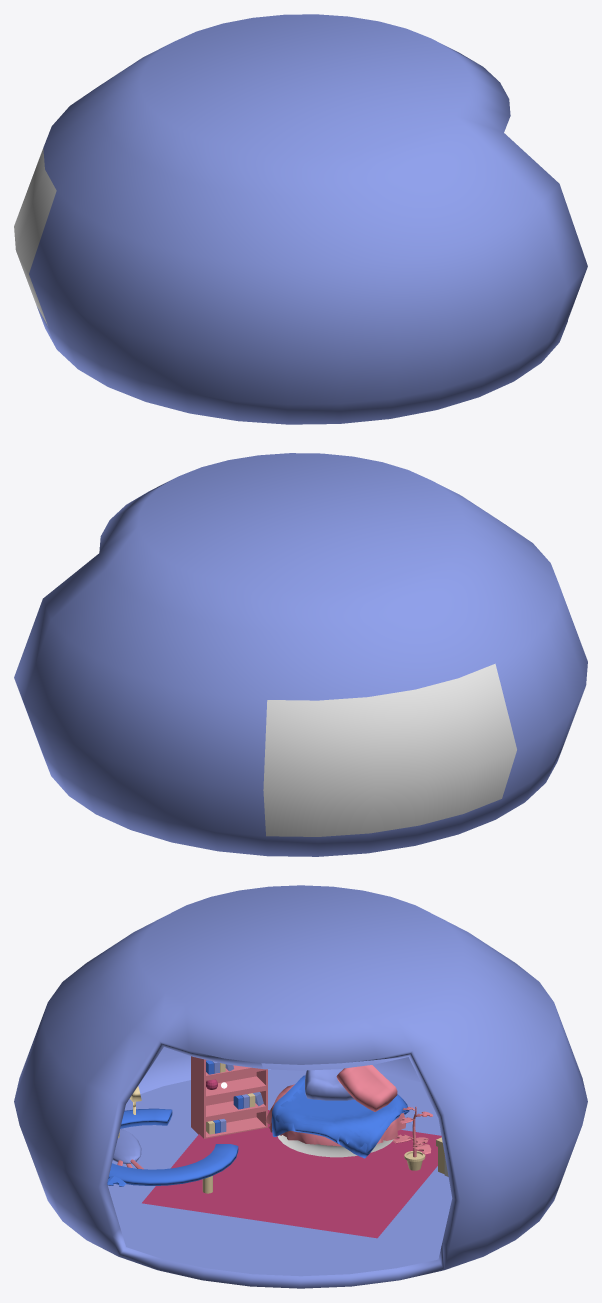
Rendered from habitación sam.fbx.
3 renders of one model, top to bottom at view 1: azimuth 30°, elevation 25°; view 2: azimuth 150°, elevation 25°; view 3: azimuth 270°, elevation 25°, orthographic.
Visible parts, largest first — view 1: Cylinder; view 2: Cylinder; view 3: Cylinder, Plane.004, Plane, Cube.002, Cylinder.003, Cube.001, Cube, Plane.001, Plane.002, Cylinder.002, Cylinder.006.
Part boxes in pixels (bbox=[...]): Cylinder: bbox=[14, 14, 587, 424]; Cylinder: bbox=[14, 453, 587, 856]; Cylinder: bbox=[14, 885, 587, 1288]; Plane.004: bbox=[142, 1110, 441, 1238]; Plane: bbox=[271, 1075, 409, 1158]; Cube.002: bbox=[191, 1056, 267, 1138]; Cylinder.003: bbox=[108, 1086, 238, 1185]; Cube.001: bbox=[336, 1065, 397, 1111]; Cube: bbox=[305, 1068, 354, 1100]; Plane.001: bbox=[265, 1084, 405, 1146]; Plane.002: bbox=[392, 1106, 432, 1170]; Cylinder.002: bbox=[277, 1135, 393, 1157]; Cylinder.006: bbox=[113, 1129, 143, 1169].
Size of the model in its own units: 1317 by 601 by 1386.
